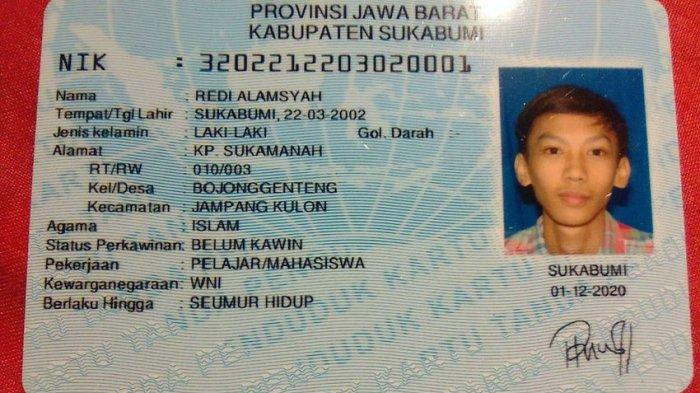ID-card: (21, 2, 691, 389)
